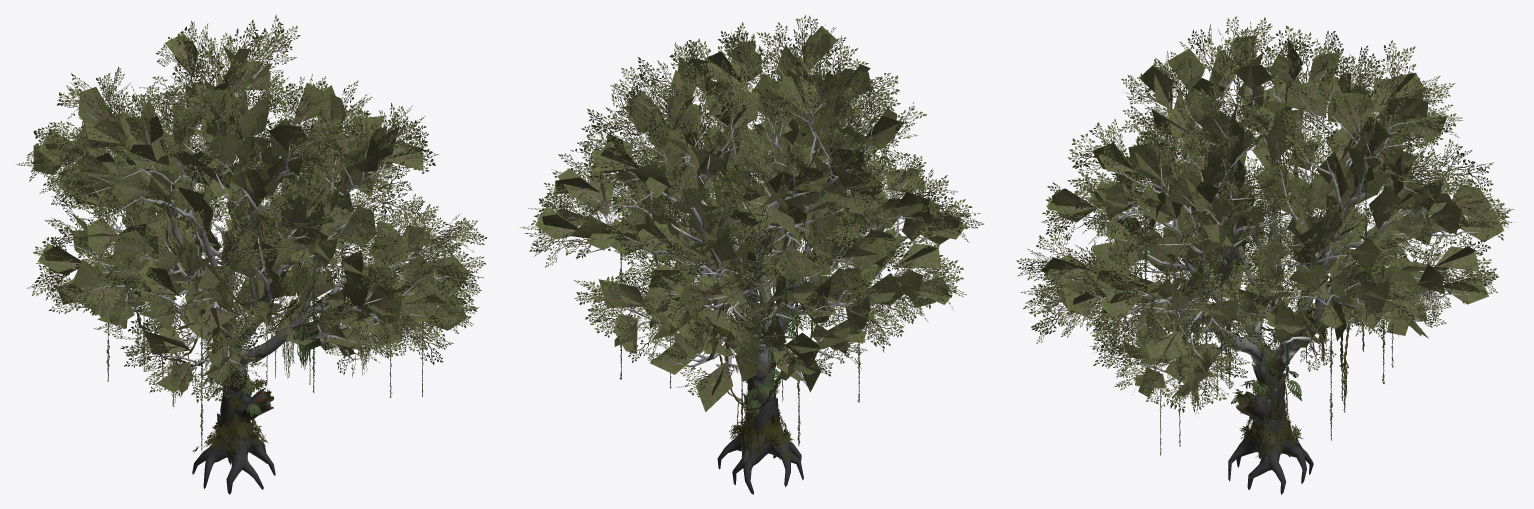
File: tree-vp.fbx
The picture shows the model from 3 angles, left to right: view 1: azimuth 30°, elevation 25°; view 2: azimuth 150°, elevation 25°; view 3: azimuth 270°, elevation 25°; orthographic projection. The views are drawn at different scales.
Visible parts, largest first — view 1: TreeGen; view 2: TreeGen; view 3: TreeGen.
Part boxes in pixels (left/top/right/bottom): TreeGen: left=16, top=15, right=487, bottom=494; TreeGen: left=520, top=15, right=983, bottom=494; TreeGen: left=1016, top=16, right=1514, bottom=494.
Bounding box in the file's own units: 2113 × 2301 × 2406.
